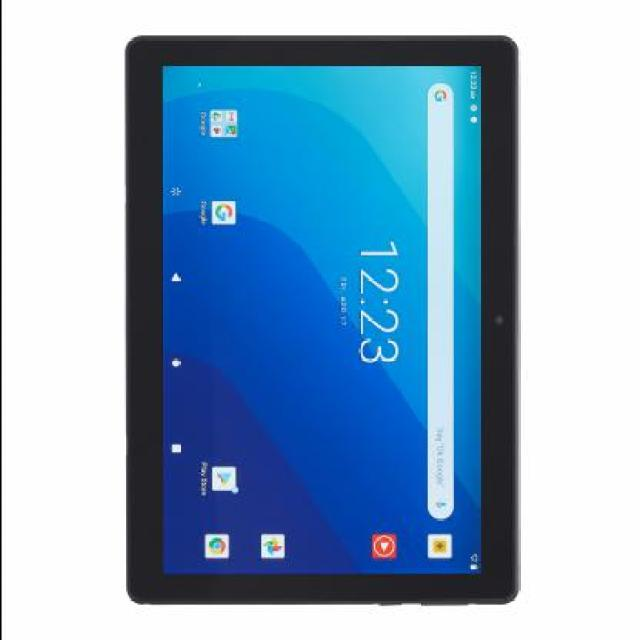tablet: (94, 12, 595, 627)
